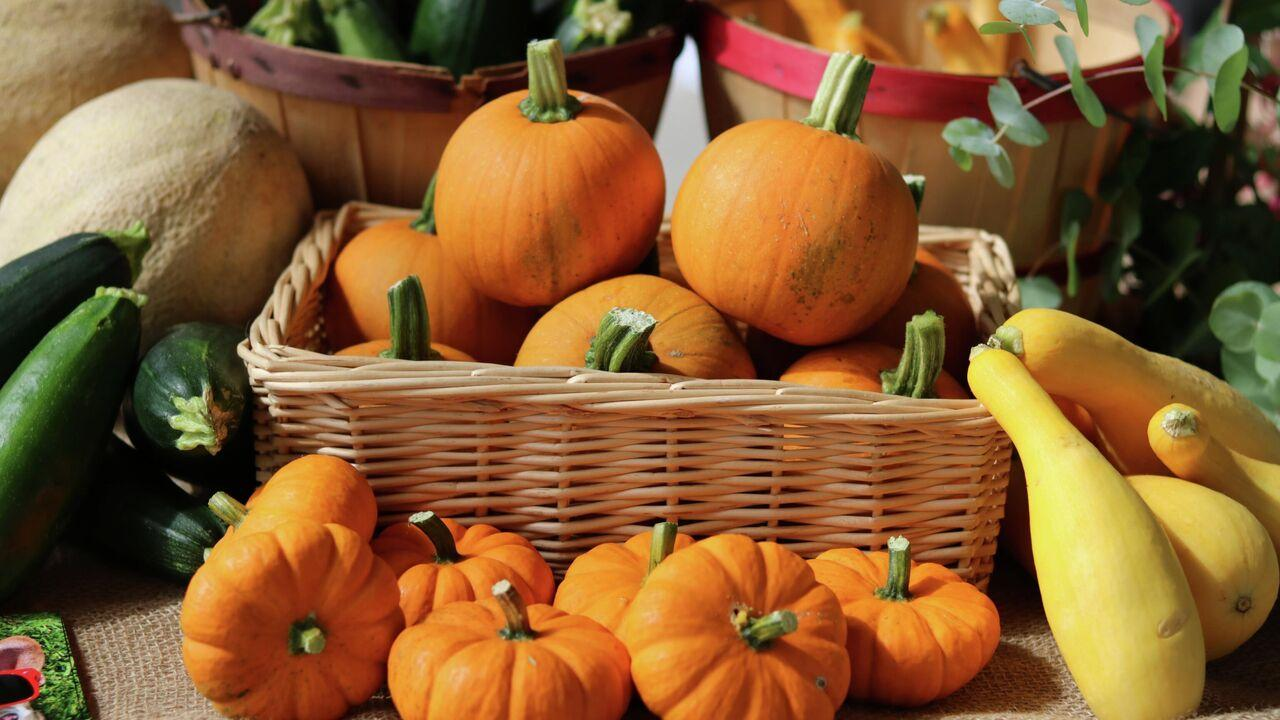pumpkin: (317, 51, 988, 407), (192, 437, 1010, 720), (392, 10, 673, 303), (672, 67, 956, 336)
